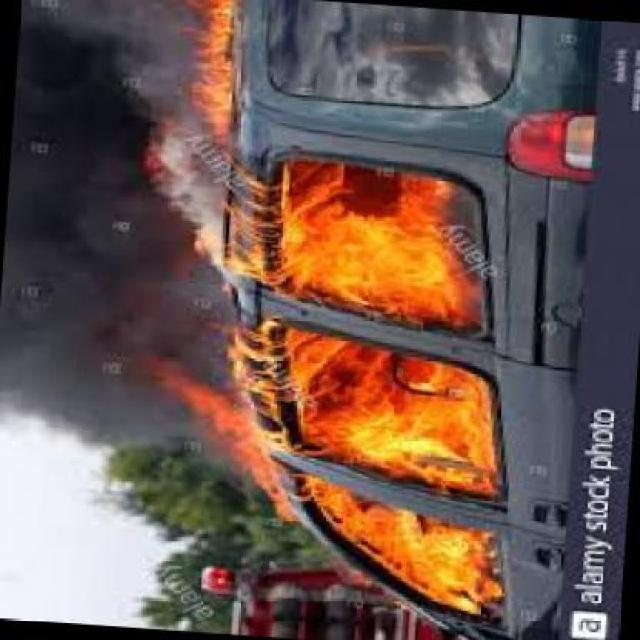Fire: (214, 135, 509, 616)
Smoke: (12, 4, 228, 489)
